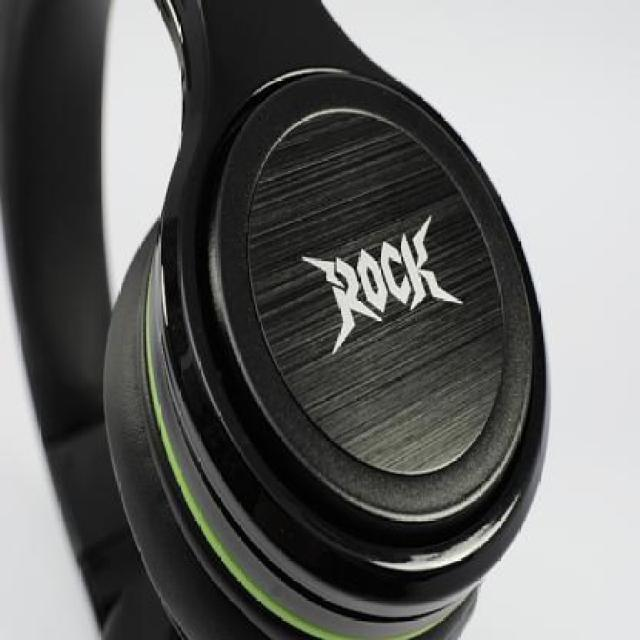earphone: (0, 1, 558, 640)
